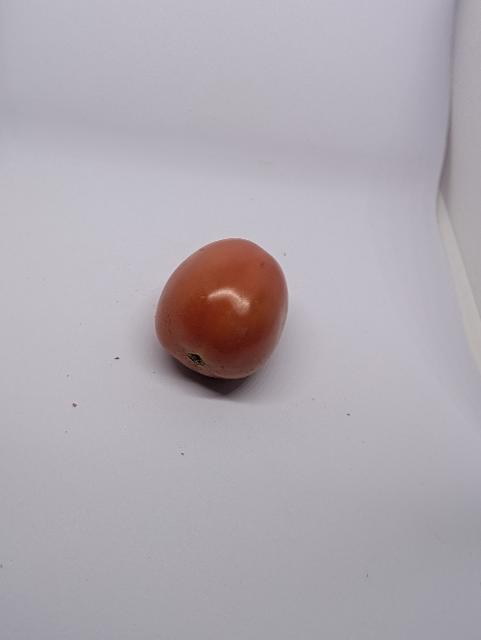red: (149, 224, 299, 396)
